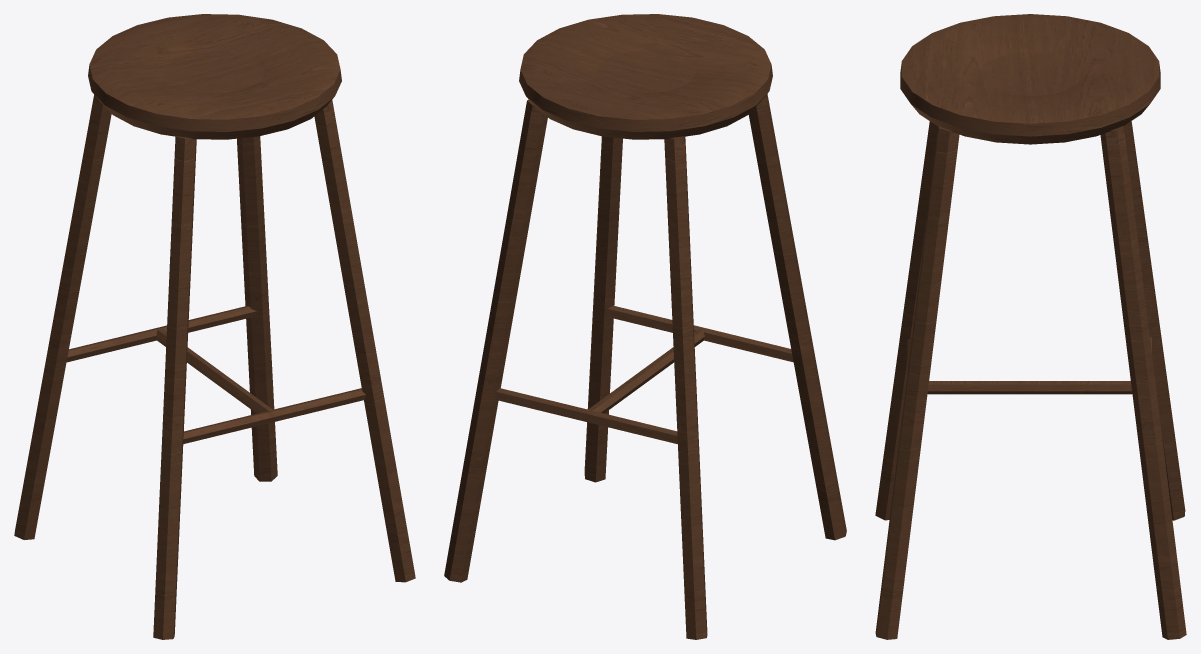
Rendered from walnut.glb.
The picture shows the model from 3 angles, left to right: view 1: azimuth 30°, elevation 25°; view 2: azimuth 150°, elevation 25°; view 3: azimuth 270°, elevation 25°; orthographic projection. The views are drawn at different scales.
Parts seen in each view (by area): view 1: walnut; view 2: walnut; view 3: walnut.
Boxes of the visible parts, bbox=[...] form: walnut: bbox=[14, 14, 415, 639]; walnut: bbox=[444, 14, 846, 639]; walnut: bbox=[875, 14, 1186, 639].
Bounding box in the file's own units: 0.4227 × 0.7627 × 0.4214.
Materials: 1 (1 with a texture image).
